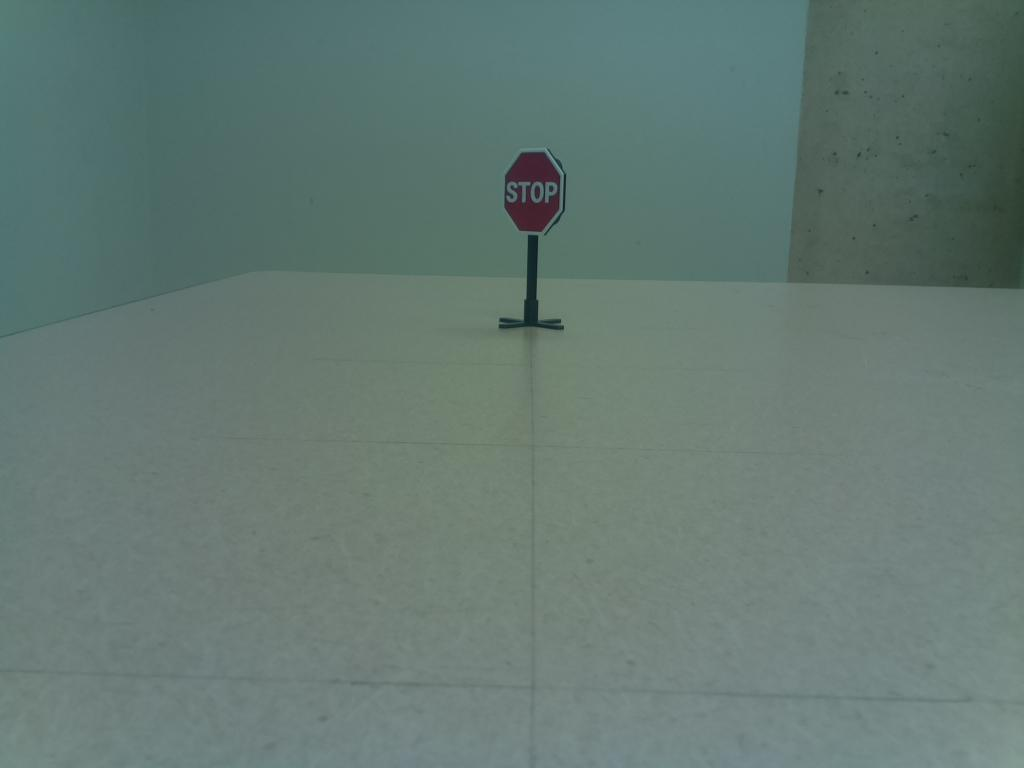sign_stop: (494, 146, 572, 241)
